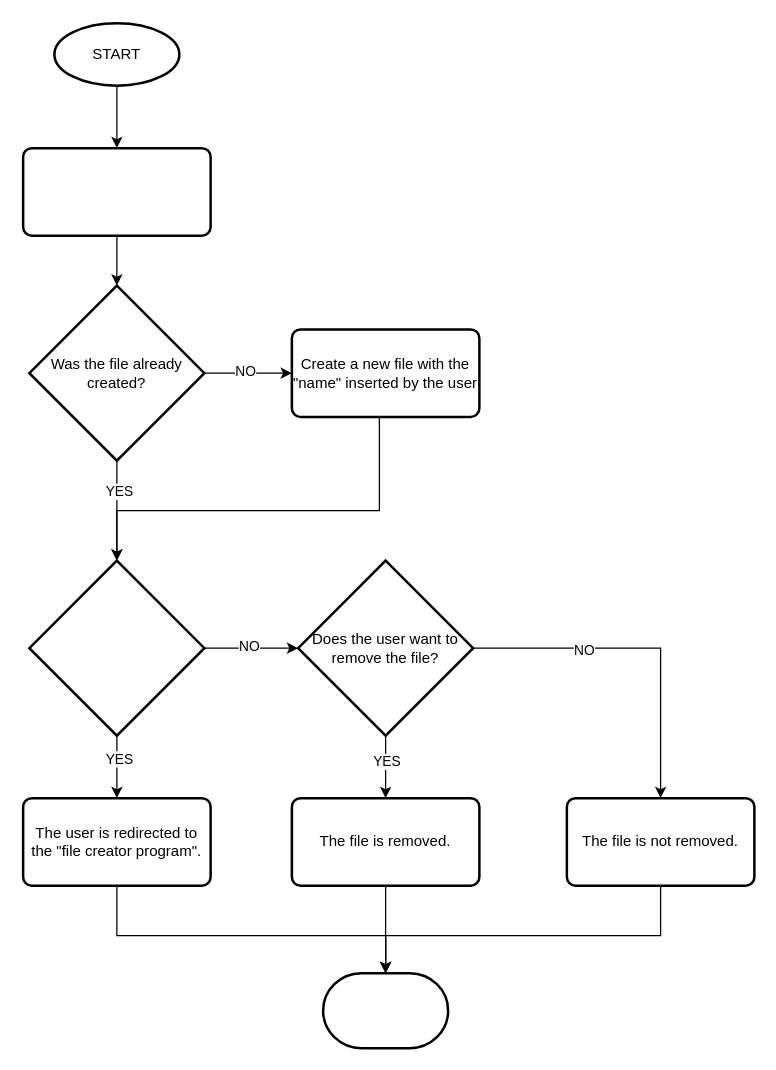
This 776x1070 diagram has some shape labels left out. Each missing label, with the centre of its shape:
"Does the user want to create a new file?" belongs at [116,647].
"END" belongs at [385,1010].
"User types the file's name" belongs at [116,191].
